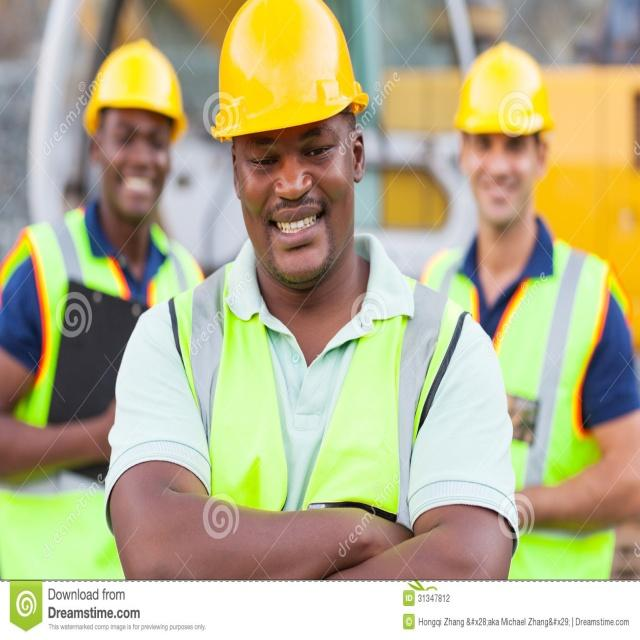helmet: (213, 1, 372, 388), (453, 56, 556, 308), (84, 48, 189, 289)
vest: (159, 353, 458, 640), (1, 268, 215, 640), (424, 321, 640, 640)
